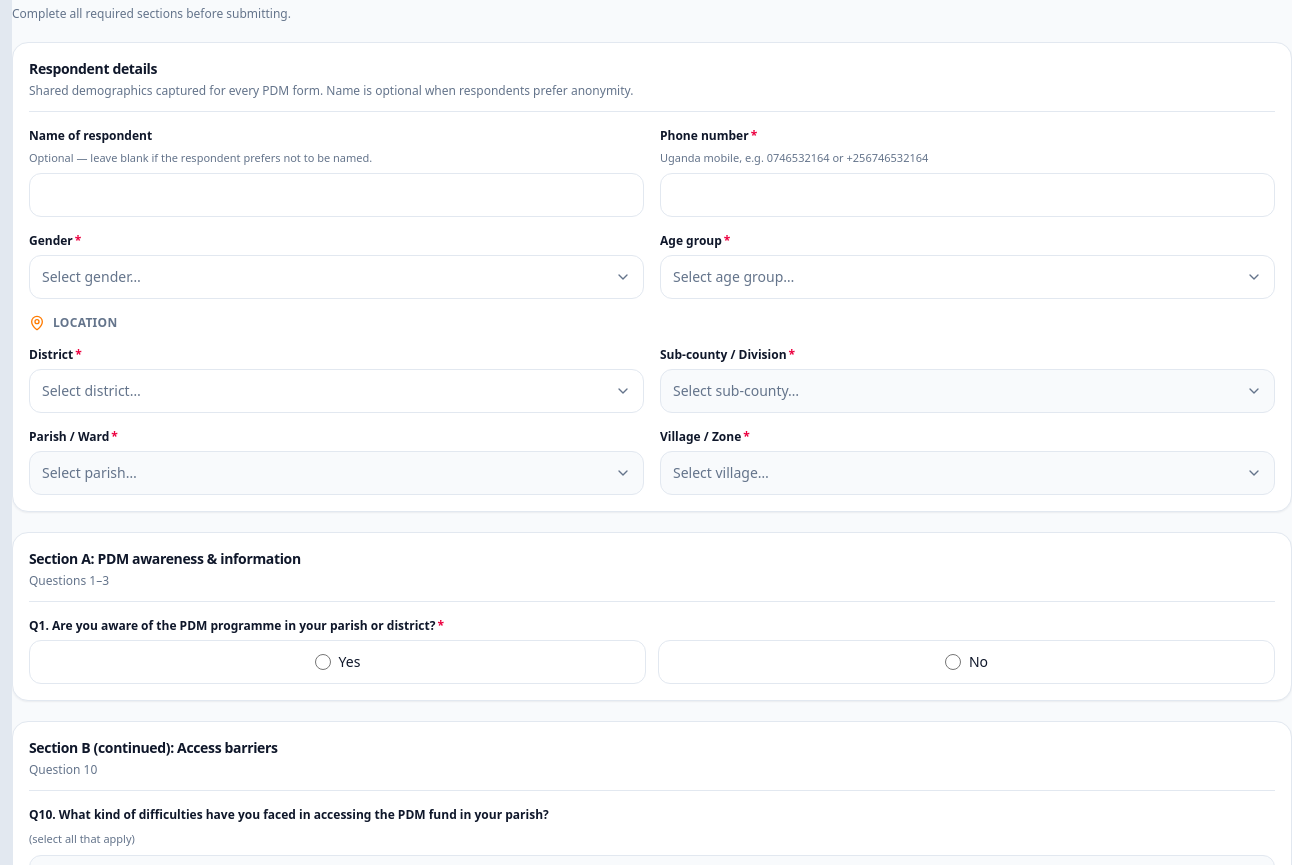
IypForm › clears Q9 when Q6 changes from No to Yes (TC-FORM-09-03)
The width and height of the screenshot is (1292, 865).
Step 1. Click the radio button with id "awareOfPdm-yes" → (323, 662), box x1=315 y1=654 x2=331 y2=670
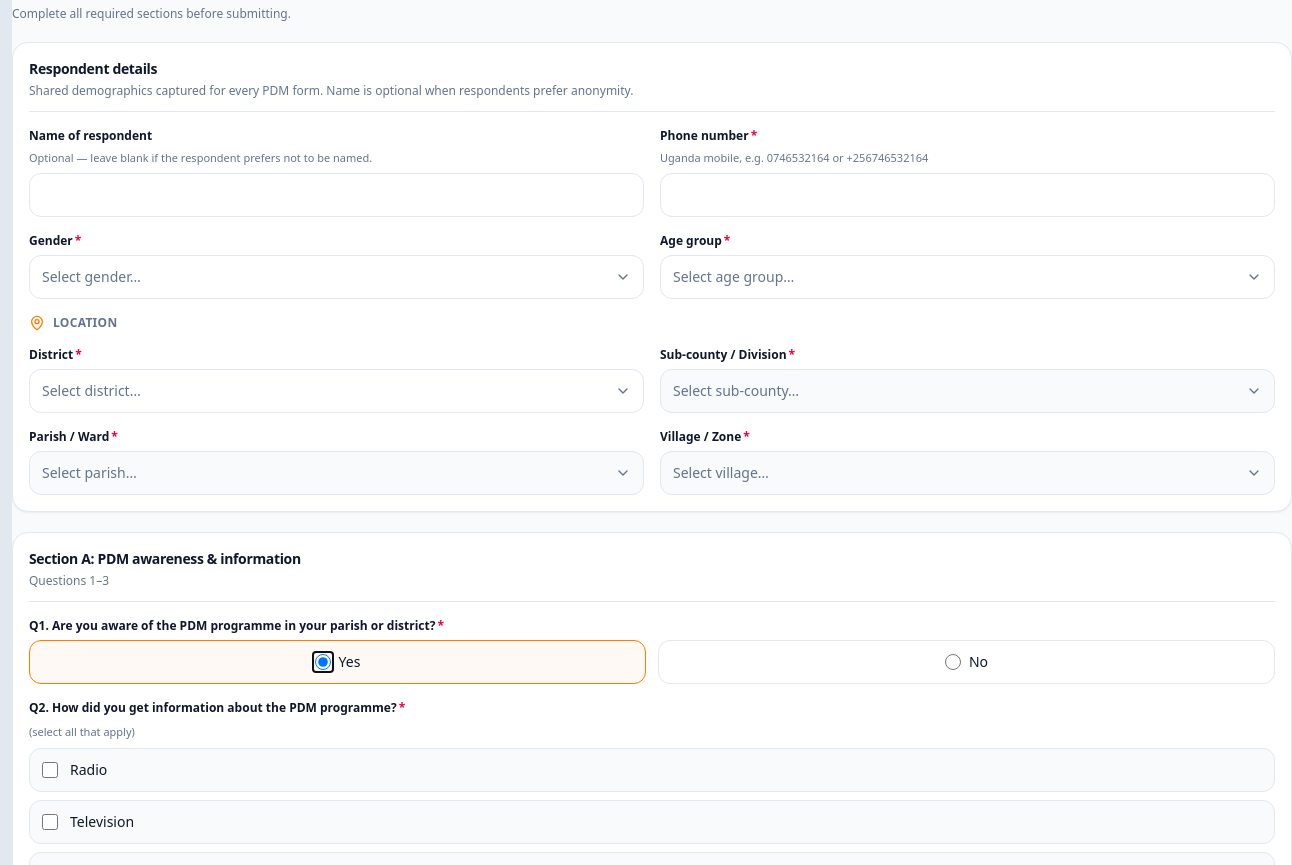
Step 2. Click the checkbox labelled "Radio" → (50, 770), box x1=42 y1=762 x2=58 y2=778
(page scrolled)
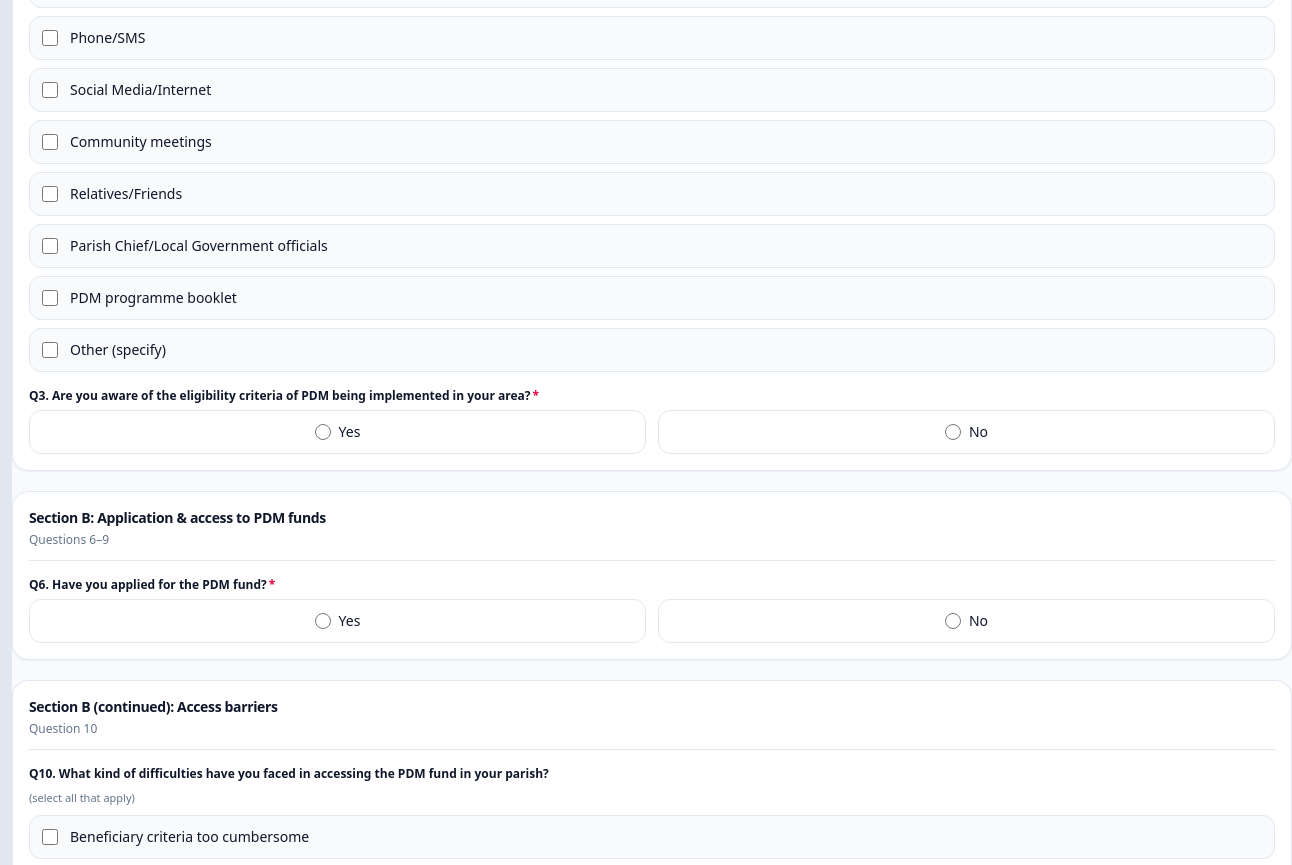
Step 3. Click the 1st radio button → (323, 432), box x1=315 y1=424 x2=331 y2=440
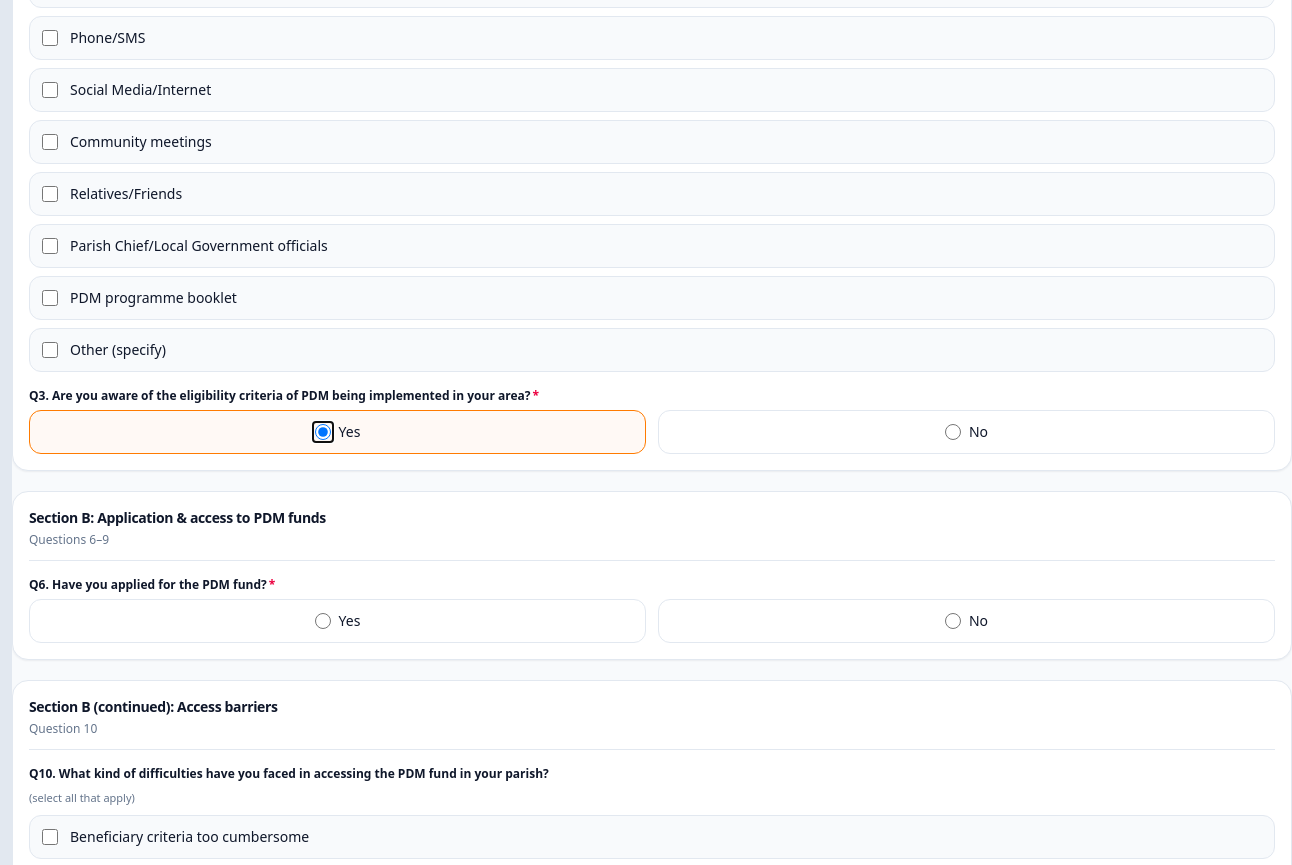
Step 4. Click the radio button with id "appliedForFund-no" → (953, 621), box x1=945 y1=613 x2=961 y2=629
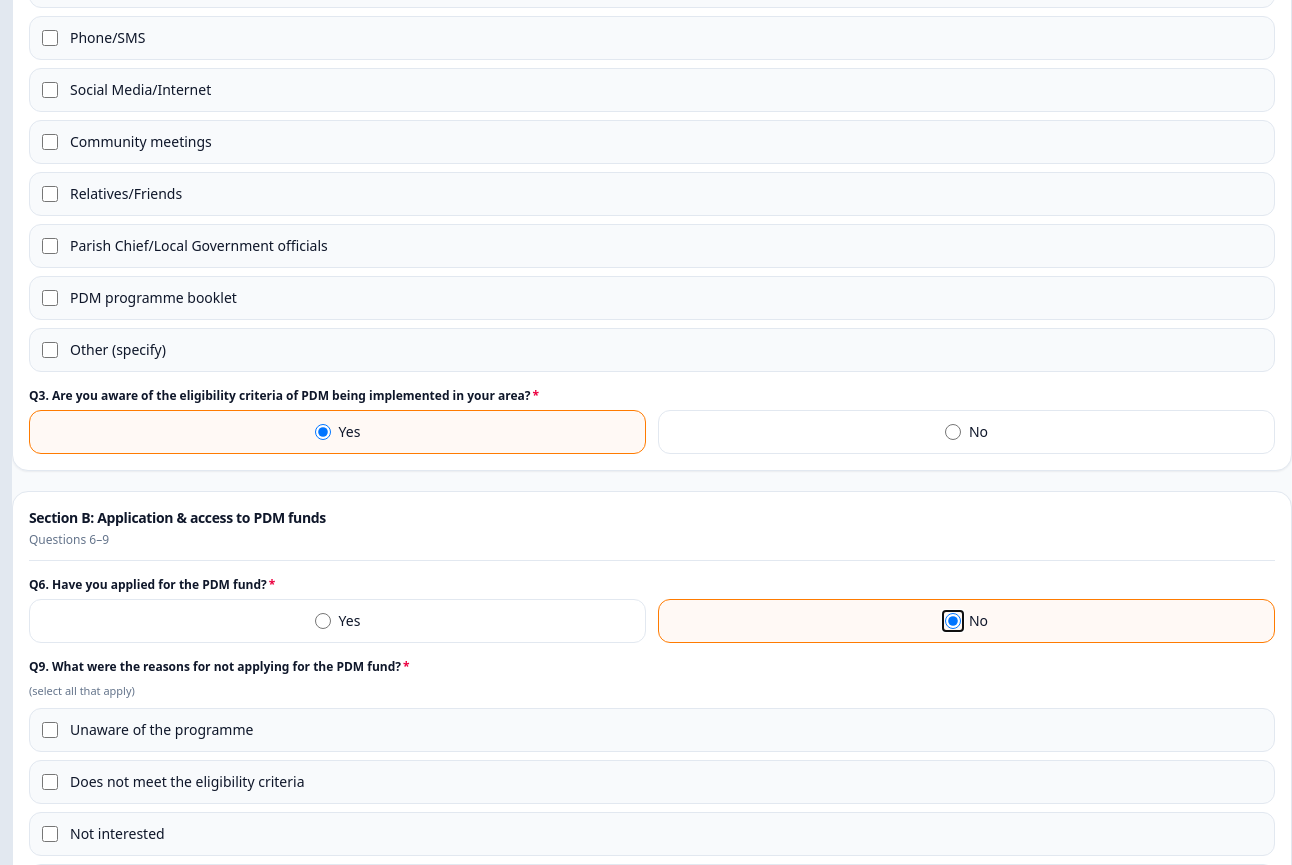
Step 5. Click the checkbox labelled "Does not meet the eligibility criteria" → (50, 782), box x1=42 y1=774 x2=58 y2=790
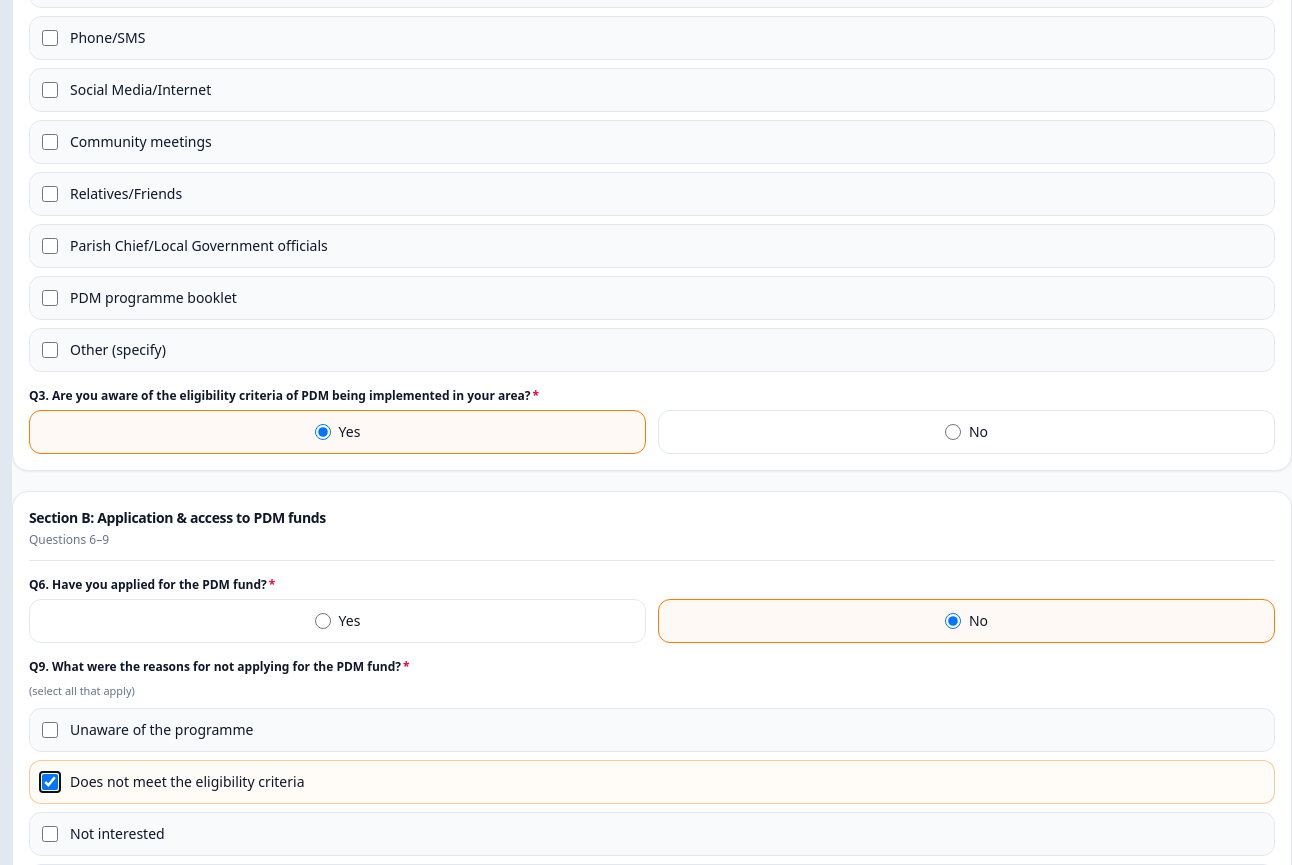
Step 6. Click the radio button with id "appliedForFund-yes" → (323, 621), box x1=315 y1=613 x2=331 y2=629
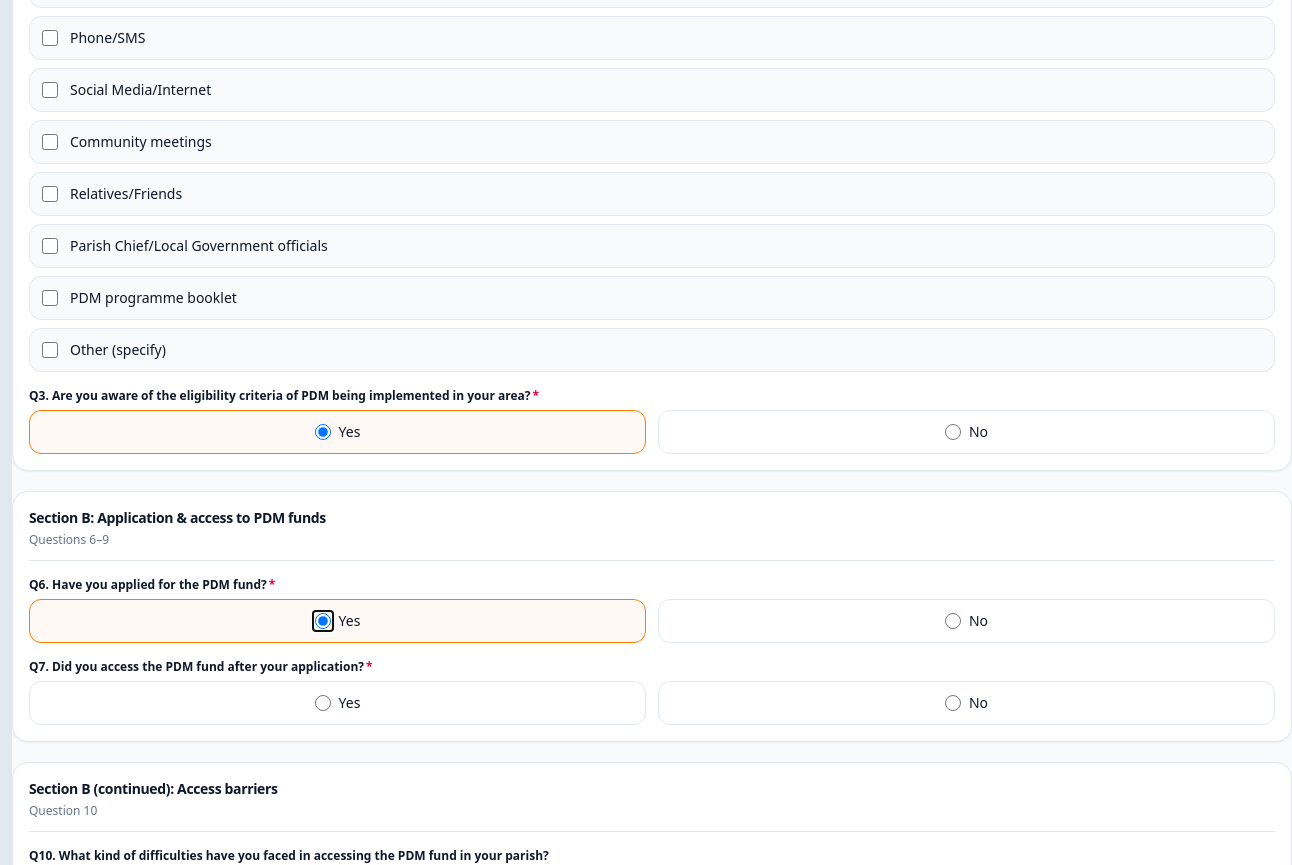
Check: the text "Q9. What were the reasons for not applying" is gone
